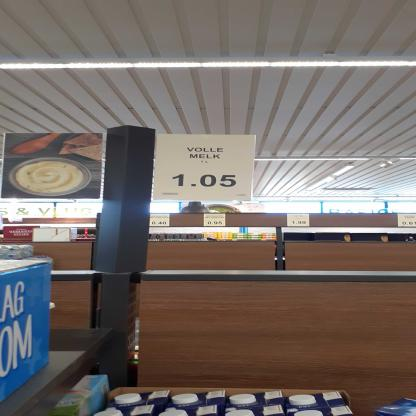prtg: (154, 135, 258, 202), (288, 215, 311, 228), (204, 214, 227, 227), (150, 215, 170, 228), (398, 214, 416, 228)
